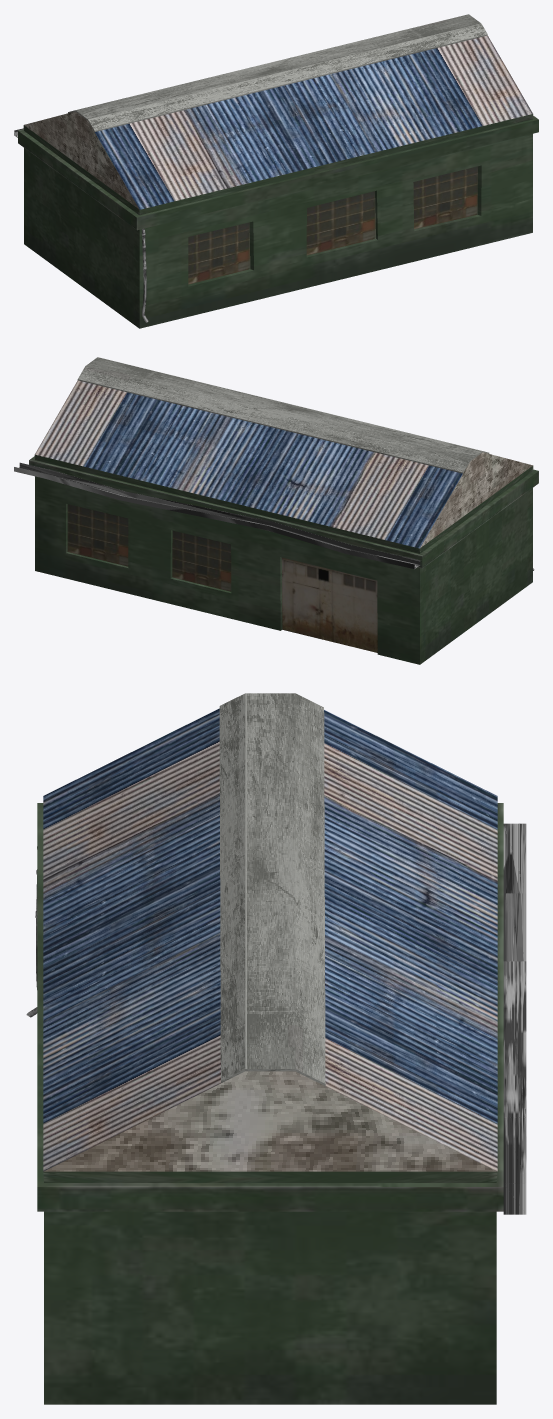
File: factory.glb
3 renders of one model, top to bottom at view 1: azimuth 30°, elevation 25°; view 2: azimuth 150°, elevation 25°; view 3: azimuth 270°, elevation 25°, orthographic. The views are drawn at different scales.
Parts seen in each view (by area): view 1: main-col; view 2: main-col, gutter; view 3: main-col, gutter.
Boxes of the visible parts, x1,y1,x2,y2 form: main-col: (18, 14, 538, 328); main-col: (29, 357, 538, 664); gutter: (14, 462, 420, 569); main-col: (37, 693, 503, 1404); gutter: (503, 823, 526, 1214).
Size of the model in its own units: 26.6 by 10.6 by 14.3.
Materials: 7 (7 with a texture image).
